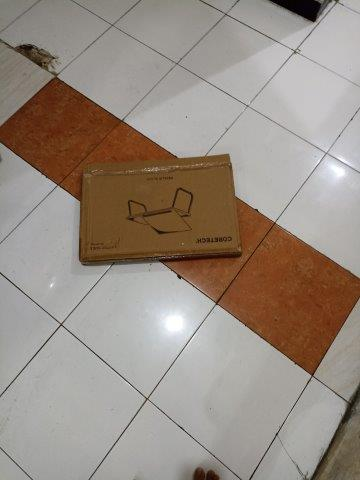kardus: (81, 156, 240, 264)
